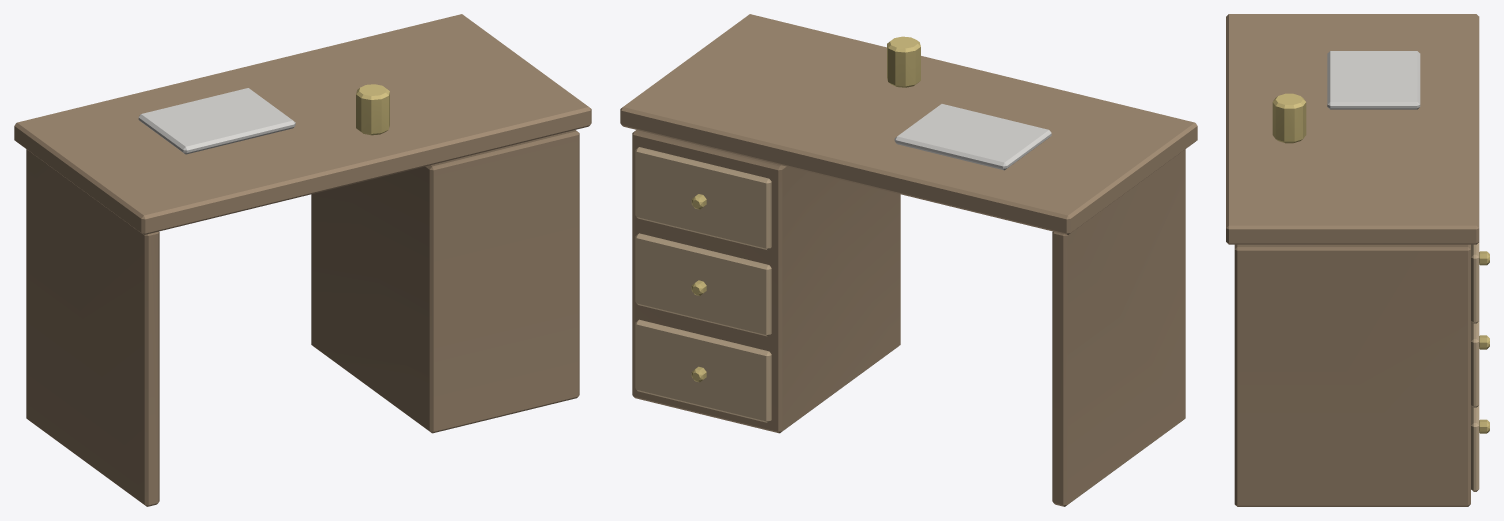
The model's file is furn_desk__walnut.glb.
3 renders of one model, left to right at view 1: azimuth 30°, elevation 25°; view 2: azimuth 150°, elevation 25°; view 3: azimuth 270°, elevation 25°, orthographic. The views are drawn at different scales.
Bounding box in the file's own units: 1.2 × 0.855 × 0.625.
